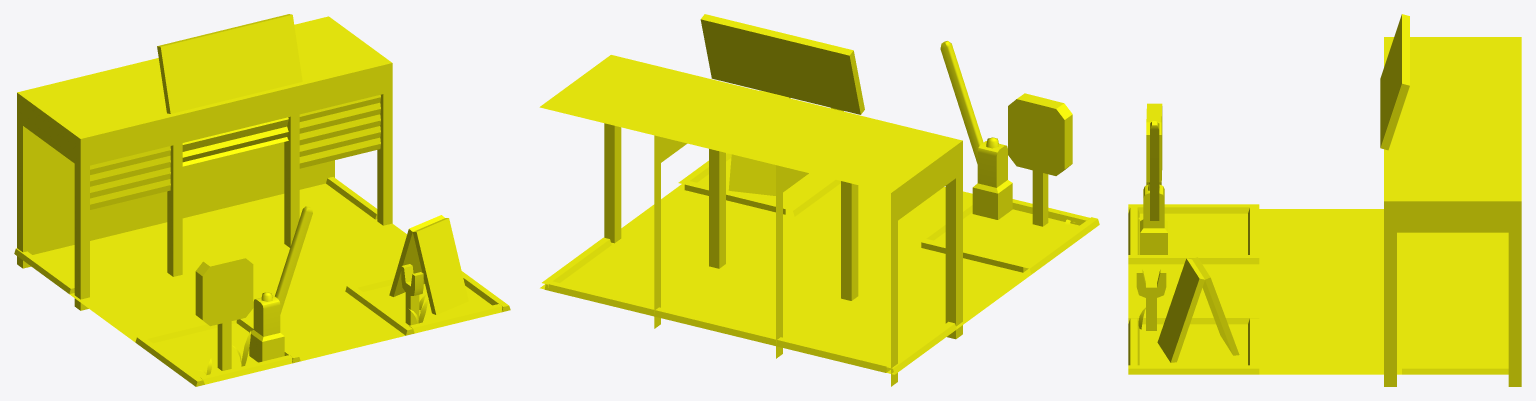
File: parking_garage.glb
The picture shows the model from 3 angles, left to right: view 1: azimuth 30°, elevation 25°; view 2: azimuth 150°, elevation 25°; view 3: azimuth 270°, elevation 25°; orthographic projection. The views are drawn at different scales.
Visible parts, largest first — view 1: parking_garage; view 2: parking_garage; view 3: parking_garage.
Part boxes in pixels (x1=…): parking_garage: x1=14, y1=14, x2=510, y2=386; parking_garage: x1=539, y1=14, x2=1099, y2=386; parking_garage: x1=1128, y1=14, x2=1521, y2=386.
Size of the model in its own units: 2.7 by 1.94 by 2.7.
Materials: 3 (3 with a texture image).
